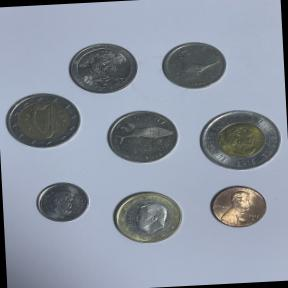coin: (192, 104, 288, 182), (99, 104, 185, 174), (0, 89, 86, 156), (106, 187, 190, 251), (66, 40, 142, 98), (203, 180, 271, 233), (31, 178, 92, 228)
